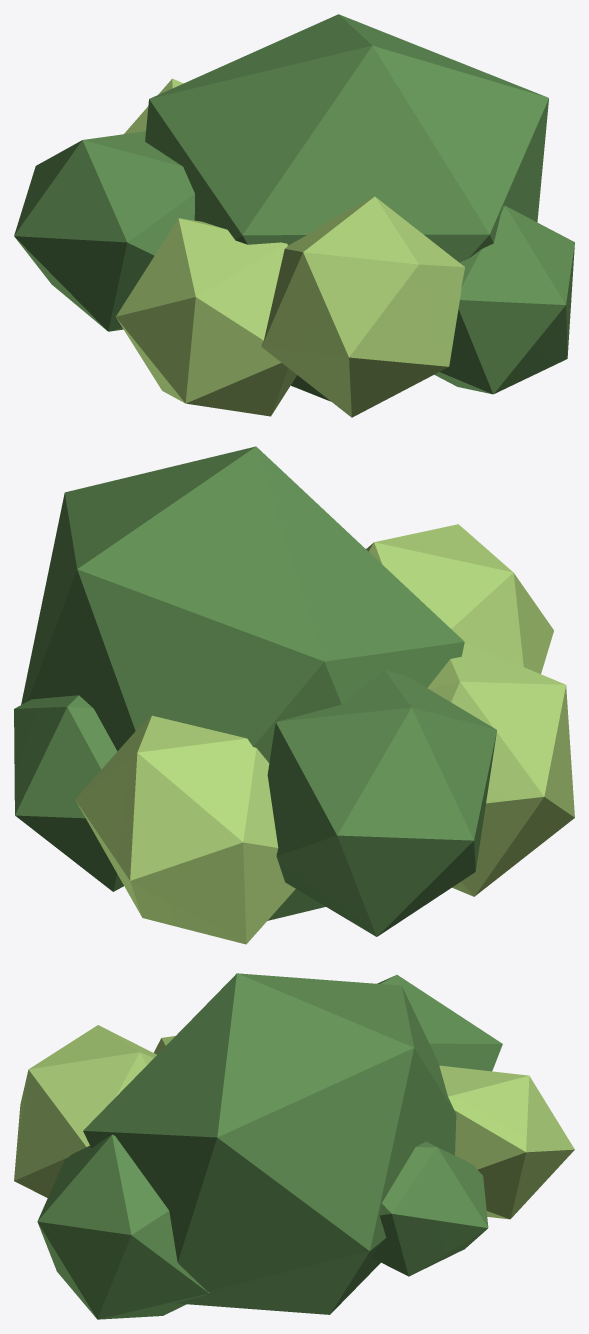
File: Buisson_02.fbx
3 views of the same model, one above another, from view 1: azimuth 30°, elevation 25°; view 2: azimuth 150°, elevation 25°; view 3: azimuth 270°, elevation 25° (orthographic). The views are drawn at different scales.
Parts seen in each view (by area): view 1: Buisson_02; view 2: Buisson_02; view 3: Buisson_02.
Boxes of the visible parts, x1,y1,x2,y2 form: Buisson_02: [14, 14, 574, 417]; Buisson_02: [14, 446, 574, 944]; Buisson_02: [14, 973, 574, 1319].
Size of the model in its own units: 298 by 234 by 338.
1 material, 1 textured.
